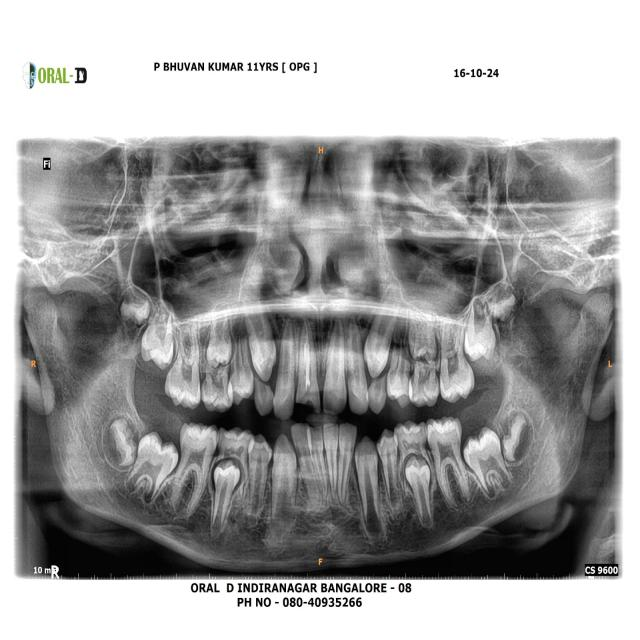Premolars: (394, 421, 434, 484), (374, 427, 399, 505)
